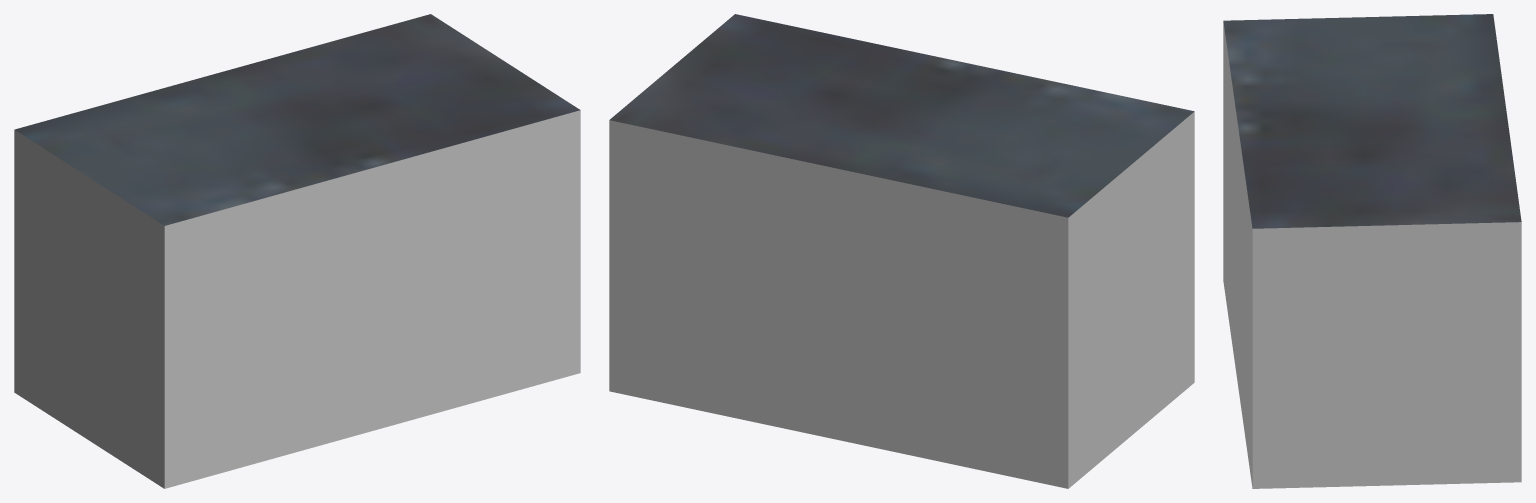
Rendered from DEBW_0010007Txdr.gltf.
3 views of the same model, side by side, from view 1: azimuth 30°, elevation 25°; view 2: azimuth 150°, elevation 25°; view 3: azimuth 270°, elevation 25° (orthographic). The views are drawn at different scales.
Visible parts, largest first — view 1: Z_UP; view 2: Z_UP; view 3: Z_UP.
Boxes of the visible parts, x1,y1,x2,y2 form: Z_UP: (14,14,580,488); Z_UP: (609,14,1194,488); Z_UP: (1223,14,1521,488).
Size of the model in its own units: 6.1 by 3.45 by 3.58.
2 materials, 1 textured.
